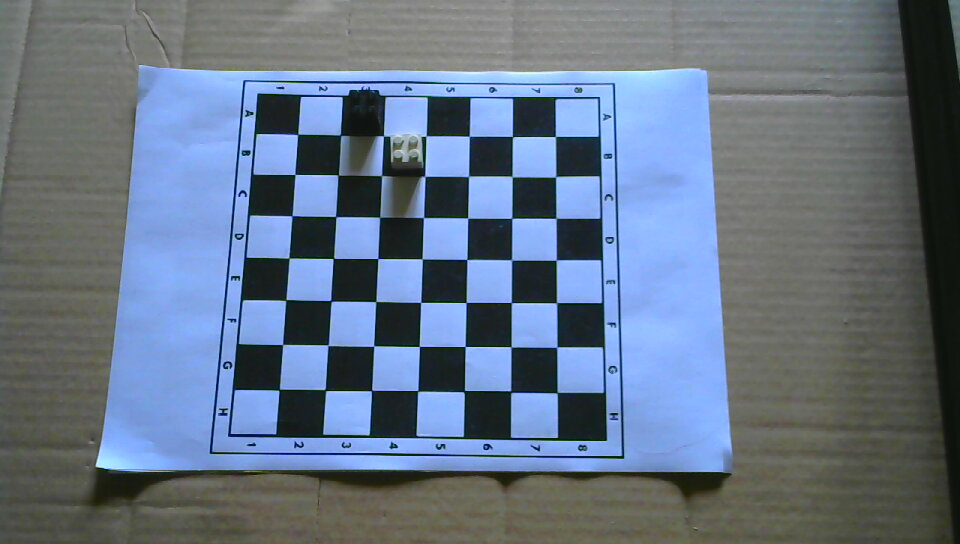bp: (344, 90, 383, 132)
wp: (389, 134, 425, 169)
